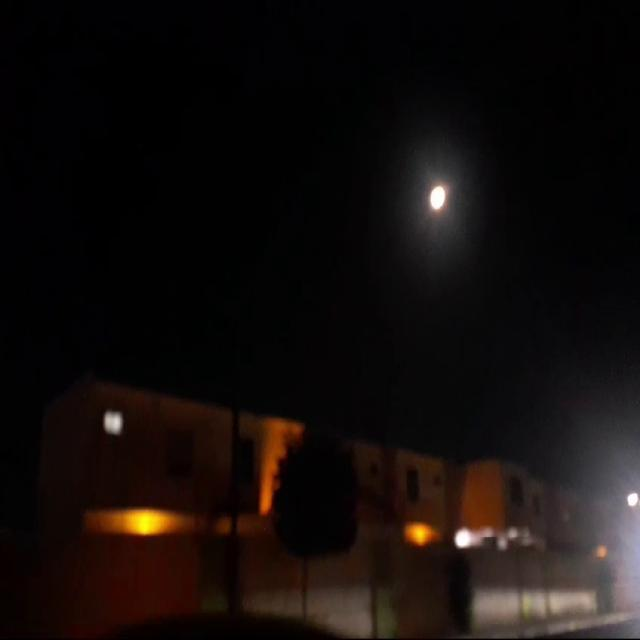moon: (443, 174, 462, 208)
